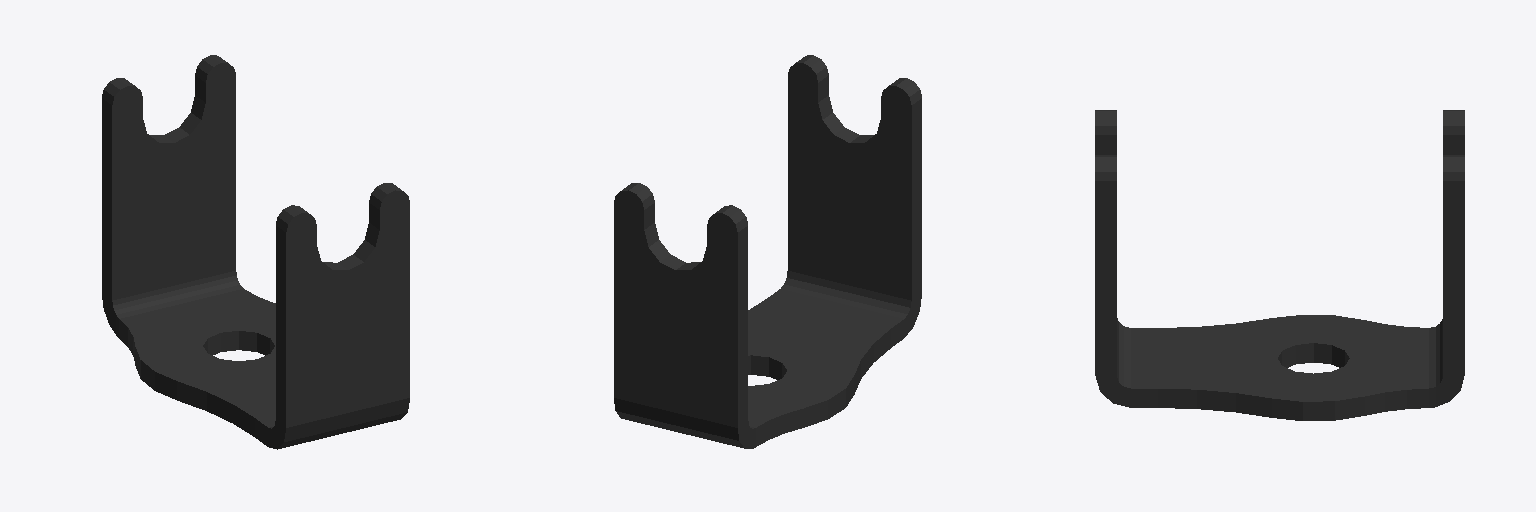
The model's file is U_Dual_Lever_Carbon_2_mesh.obj.
3 renders of one model, left to right at view 1: azimuth 30°, elevation 25°; view 2: azimuth 150°, elevation 25°; view 3: azimuth 270°, elevation 25°, orthographic.
Bounding box in the file's own units: 0.0289 × 0.0375 × 0.0516.